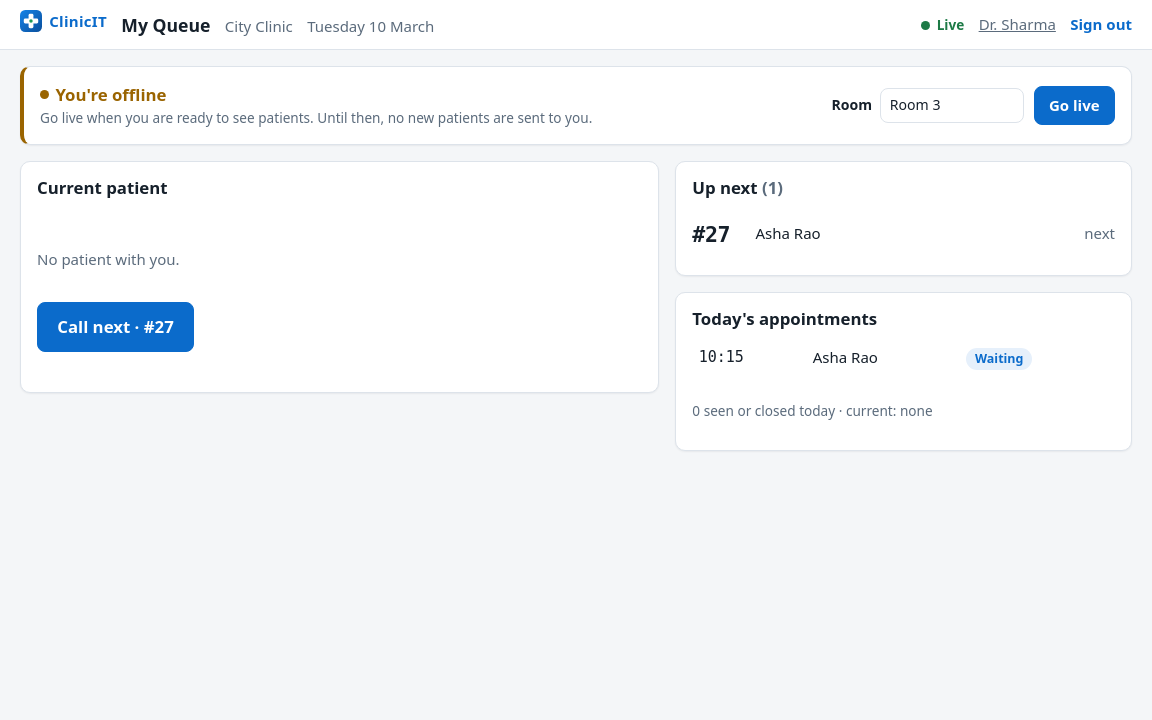
Scenario: DoctorConsole › shows why an action was refused
The width and height of the screenshot is (1152, 720).
Expected: the text "No patient with you." is shown, [37,249,180,271]
Click the button "Call next · #27" at (116, 327), box [37,302,194,352]
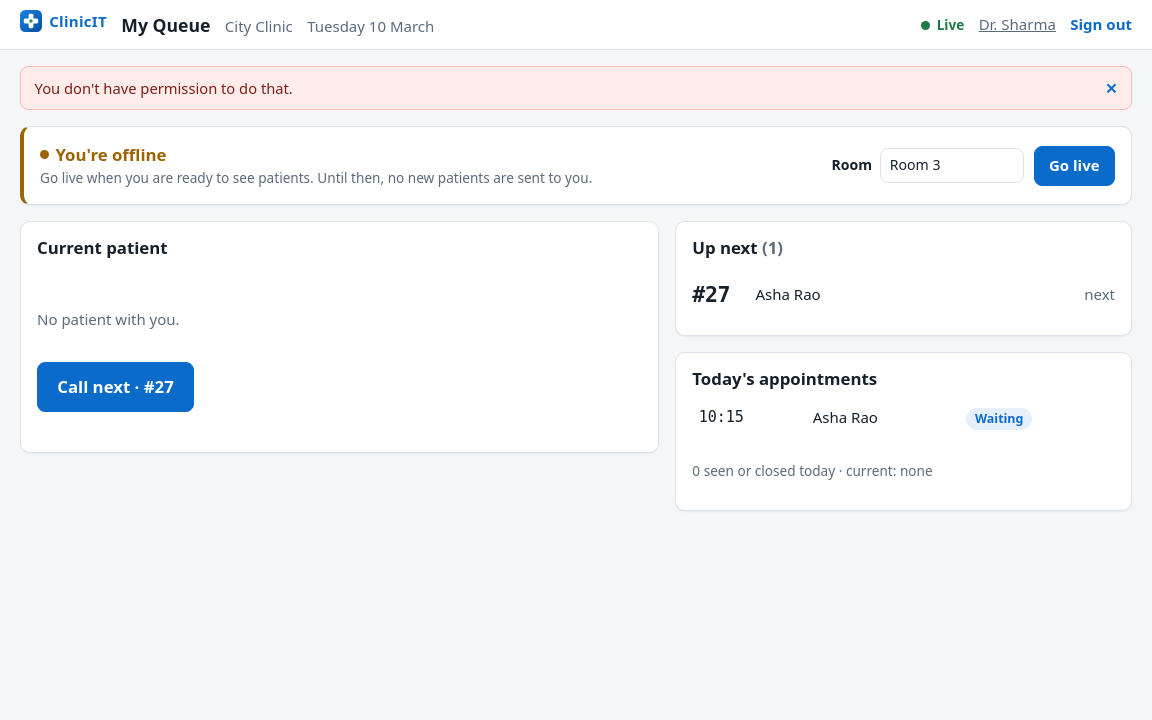
Result: the message "You don't have permission to do that. ✕" is shown at [20,66,1132,110]
